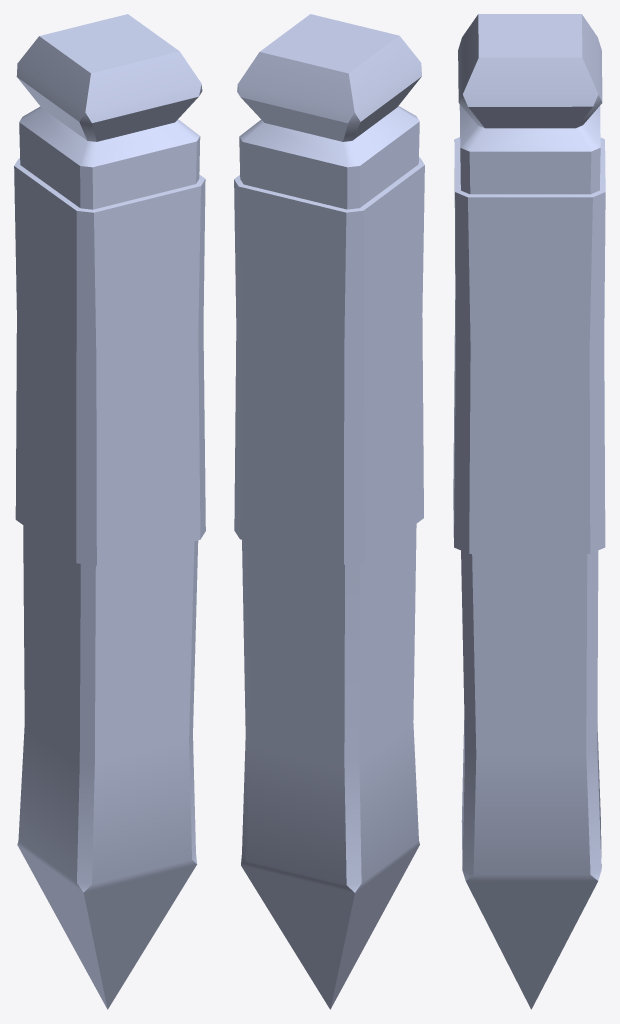
File: sniper_stake.fbx
3 views of the same model, side by side, from view 1: azimuth 30°, elevation 25°; view 2: azimuth 150°, elevation 25°; view 3: azimuth 270°, elevation 25° (orthographic).
Visible parts, largest first — view 1: hwn_sniper_misc2.001; view 2: hwn_sniper_misc2.001; view 3: hwn_sniper_misc2.001.
Part boxes in pixels (x1=…): hwn_sniper_misc2.001: x1=14, y1=14, x2=205, y2=1009; hwn_sniper_misc2.001: x1=234, y1=14, x2=424, y2=1009; hwn_sniper_misc2.001: x1=453, y1=14, x2=605, y2=1009.
Bounding box in the file's own units: 207 × 1464 × 207.
